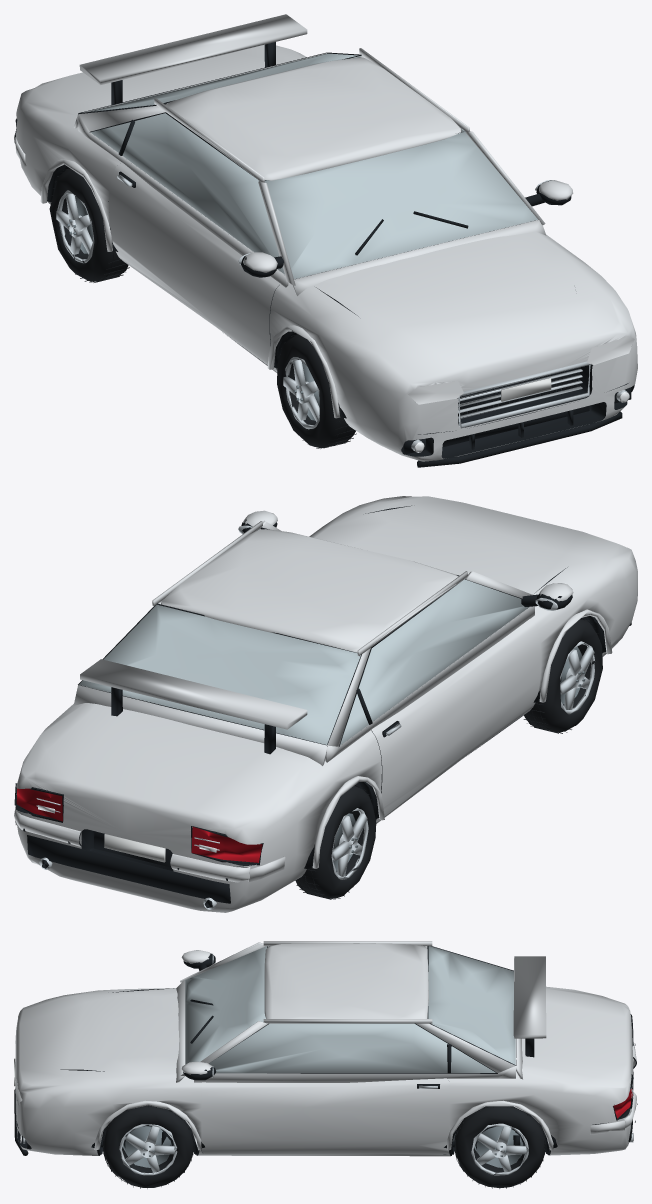
File: sports-lod1.glb
3 renders of one model, top to bottom at view 1: azimuth 30°, elevation 25°; view 2: azimuth 150°, elevation 25°; view 3: azimuth 270°, elevation 25°, orthographic. The views are drawn at different scales.
Parts seen in each view (by area): view 1: body_paint, body_glass.001, body_black.001, wheelpart_rubber.001 (×2), body_chrome, wheelpart_chrome (×2), body_clearlens, body_white; view 2: body_paint, body_glass.001, body_black.001, wheelpart_rubber.001 (×2), wheelpart_chrome (×2), body_redlens, body_white, body_chrome; view 3: body_paint, body_glass.001, wheelpart_rubber.001 (×2), body_black.001, wheelpart_chrome (×2), body_steel.001, body_chrome, body_rubber.001.
Part boxes in pixels (<box>): body_paint: <box>14,14,637,461</box>; body_glass.001: <box>86,53,537,278</box>; body_black.001: <box>15,42,634,467</box>; wheelpart_rubber.001 (×2): <box>49,168,355,448</box>; body_chrome: <box>69,174,627,450</box>; wheelpart_chrome (×2): <box>56,190,319,429</box>; body_clearlens: <box>408,335,634,452</box>; body_white: <box>501,377,551,401</box>; body_paint: <box>14,496,637,912</box>; body_glass.001: <box>79,529,529,745</box>; body_black.001: <box>14,505,631,908</box>; wheelpart_rubber.001 (×2): <box>296,619,602,898</box>; wheelpart_chrome (×2): <box>331,641,594,879</box>; body_redlens: <box>16,788,262,862</box>; body_white: <box>104,834,165,862</box>; body_chrome: <box>36,525,584,909</box>; body_paint: <box>15,941,636,1156</box>; body_glass.001: <box>185,946,515,1073</box>; wheelpart_rubber.001 (×2): <box>103,1105,544,1188</box>; body_black.001: <box>14,946,637,1155</box>; wheelpart_chrome (×2): <box>119,1123,528,1175</box>; body_steel.001: <box>125,1125,523,1167</box>; body_chrome: <box>15,953,633,1158</box>; body_rubber.001: <box>102,1105,545,1188</box>.
Size of the model in its own units: 2.08 by 1.29 by 4.49.
